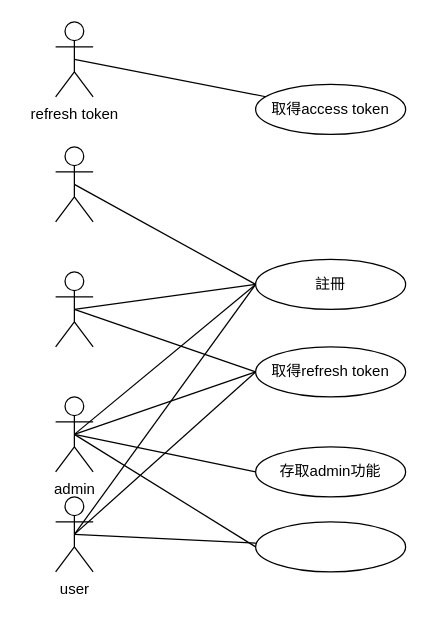
This 428x620 diagram has some shape labels left out. Each missing label, with the centre of its shape:
存取user功能: [330,546]
已註冊但未登入: [73,309]
未登入且未註冊: [73,184]
